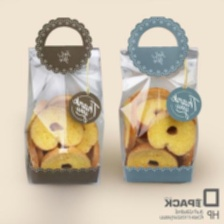snack: (113, 10, 209, 189), (18, 11, 109, 190)
